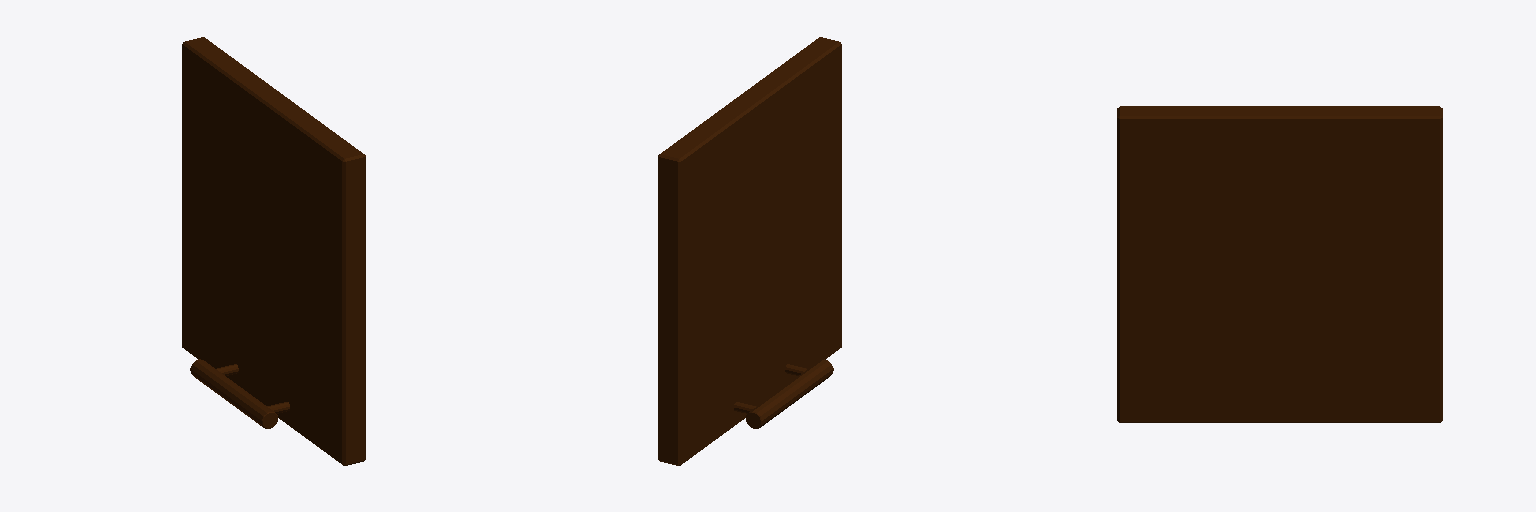
File: door_handle.obj
The picture shows the model from 3 angles: view 1: azimuth 30°, elevation 25°; view 2: azimuth 150°, elevation 25°; view 3: azimuth 270°, elevation 25°; orthographic projection.
Parts seen in each view (by area): view 1: cabinet02_door2, cabinet02_door2_handle; view 2: cabinet02_door2, cabinet02_door2_handle; view 3: cabinet02_door2.
Part boxes in pixels (x1,y1,x2,y2): cabinet02_door2: (182, 37, 365, 465); cabinet02_door2_handle: (190, 359, 289, 428); cabinet02_door2: (658, 37, 841, 465); cabinet02_door2_handle: (734, 359, 833, 428); cabinet02_door2: (1117, 106, 1442, 422).
Bounding box in the file's own units: 0.0863 × 0.4228 × 0.405.